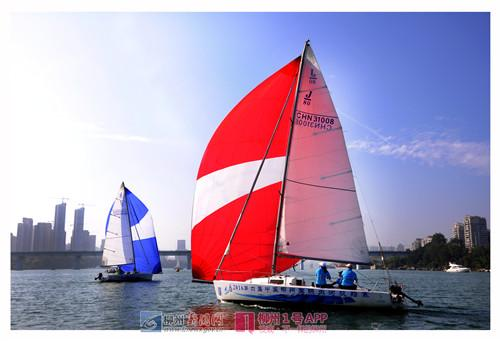Ship: (191, 39, 402, 312), (98, 181, 164, 284), (447, 263, 471, 275)
